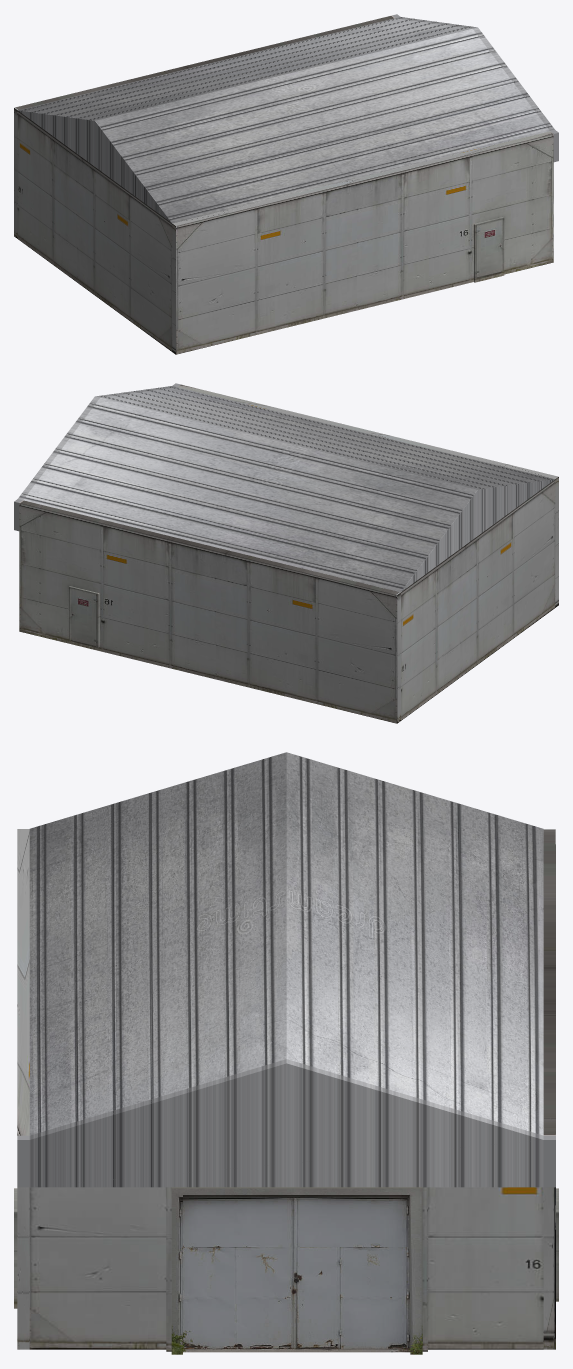
Rendered from uploads_files_2371092_HUNGAR.fbx.
3 views of the same model, one above another, from view 1: azimuth 30°, elevation 25°; view 2: azimuth 150°, elevation 25°; view 3: azimuth 270°, elevation 25° (orthographic). The views are drawn at different scales.
Parts seen in each view (by area): view 1: Plane.004, Plane, Plane.002, Plane.001; view 2: Plane.004, Plane.001, Plane.002, Plane; view 3: Plane.004, Plane.003, Plane.006, Plane, Plane.001.
Boxes of the visible parts, x1,y1,x2,y2 form: Plane.004: (18, 14, 558, 223); Plane: (172, 131, 553, 354); Plane.002: (17, 111, 172, 351); Plane.001: (14, 15, 395, 238); Plane.004: (14, 383, 554, 592); Plane.001: (19, 500, 400, 723); Plane.002: (401, 479, 555, 720); Plane: (177, 384, 558, 607); Plane.004: (17, 752, 555, 1187); Plane.003: (29, 1187, 543, 1351); Plane.006: (171, 1187, 422, 1354); Plane: (14, 829, 29, 1349); Plane.001: (543, 829, 558, 1349).
Size of the model in its own units: 3145 by 1366 by 2321.
Materials: 5 (5 with a texture image).
